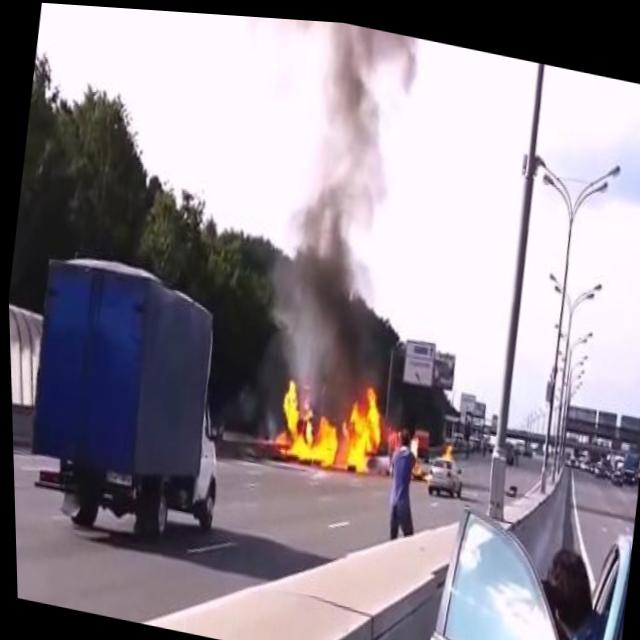fire: (268, 360, 388, 477), (439, 431, 453, 456)
